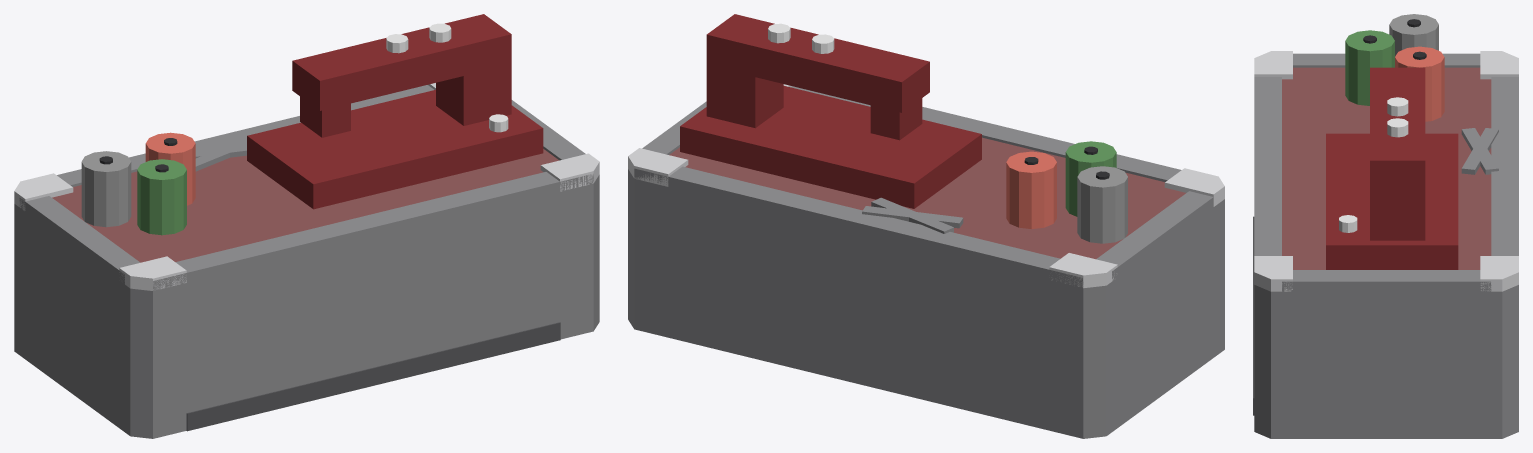
File: vge_compact_tailor.obj
3 renders of one model, left to right at view 1: azimuth 30°, elevation 25°; view 2: azimuth 150°, elevation 25°; view 3: azimuth 270°, elevation 25°, orthographic. The views are drawn at different scales.
Visible parts, largest first — view 1: vge_compact_tailor_0, vge_compact_tailor_17, vge_compact_tailor_1, vge_compact_tailor_19, vge_compact_tailor_2, vge_compact_tailor_10, vge_compact_tailor_18, vge_compact_tailor_11, vge_compact_tailor_13, vge_compact_tailor_4, vge_compact_tailor_3, vge_compact_tailor_15 (+6 smaller); view 2: vge_compact_tailor_0, vge_compact_tailor_17, vge_compact_tailor_1, vge_compact_tailor_19, vge_compact_tailor_3, vge_compact_tailor_18, vge_compact_tailor_11, vge_compact_tailor_15, vge_compact_tailor_2, vge_compact_tailor_4, vge_compact_tailor_13, vge_compact_tailor_7 (+6 smaller); view 3: vge_compact_tailor_0, vge_compact_tailor_1, vge_compact_tailor_17, vge_compact_tailor_19, vge_compact_tailor_2, vge_compact_tailor_3, vge_compact_tailor_5, vge_compact_tailor_18, vge_compact_tailor_13, vge_compact_tailor_15, vge_compact_tailor_11, vge_compact_tailor_4 (+10 smaller).
Part boxes in pixels (bbox=[...]): vge_compact_tailor_0: bbox=[14, 174, 599, 438]; vge_compact_tailor_17: bbox=[247, 89, 543, 209]; vge_compact_tailor_1: bbox=[52, 149, 559, 262]; vge_compact_tailor_19: bbox=[292, 14, 511, 110]; vge_compact_tailor_2: bbox=[153, 172, 593, 290]; vge_compact_tailor_10: bbox=[186, 322, 560, 431]; vge_compact_tailor_18: bbox=[436, 39, 511, 125]; vge_compact_tailor_11: bbox=[81, 151, 131, 227]; vge_compact_tailor_13: bbox=[137, 159, 186, 235]; vge_compact_tailor_4: bbox=[19, 196, 140, 284]; vge_compact_tailor_3: bbox=[57, 85, 433, 186]; vge_compact_tailor_15: bbox=[145, 132, 195, 205]; vge_compact_tailor_0: bbox=[628, 169, 1224, 438]; vge_compact_tailor_17: bbox=[680, 86, 981, 208]; vge_compact_tailor_1: bbox=[669, 137, 1185, 259]; vge_compact_tailor_19: bbox=[706, 14, 929, 112]; vge_compact_tailor_3: bbox=[634, 166, 1083, 287]; vge_compact_tailor_18: bbox=[706, 40, 783, 128]; vge_compact_tailor_11: bbox=[1077, 166, 1127, 243]; vge_compact_tailor_15: bbox=[1006, 151, 1056, 229]; vge_compact_tailor_2: bbox=[791, 86, 1181, 181]; vge_compact_tailor_4: bbox=[1096, 191, 1213, 280]; vge_compact_tailor_13: bbox=[1065, 141, 1116, 216]; vge_compact_tailor_7: bbox=[1049, 253, 1117, 288]; vge_compact_tailor_0: bbox=[1254, 285, 1518, 438]; vge_compact_tailor_1: bbox=[1282, 67, 1491, 269]; vge_compact_tailor_17: bbox=[1326, 133, 1458, 269]; vge_compact_tailor_19: bbox=[1370, 67, 1425, 190]; vge_compact_tailor_2: bbox=[1254, 77, 1281, 255]; vge_compact_tailor_3: bbox=[1491, 77, 1518, 255]; vge_compact_tailor_5: bbox=[1282, 270, 1491, 291]; vge_compact_tailor_18: bbox=[1370, 165, 1425, 240]; vge_compact_tailor_13: bbox=[1345, 30, 1394, 105]; vge_compact_tailor_15: bbox=[1395, 46, 1444, 121]; vge_compact_tailor_11: bbox=[1389, 14, 1438, 56]; vge_compact_tailor_4: bbox=[1293, 53, 1480, 67].
Size of the model in its own units: 1.96 by 1.08 by 0.965.
